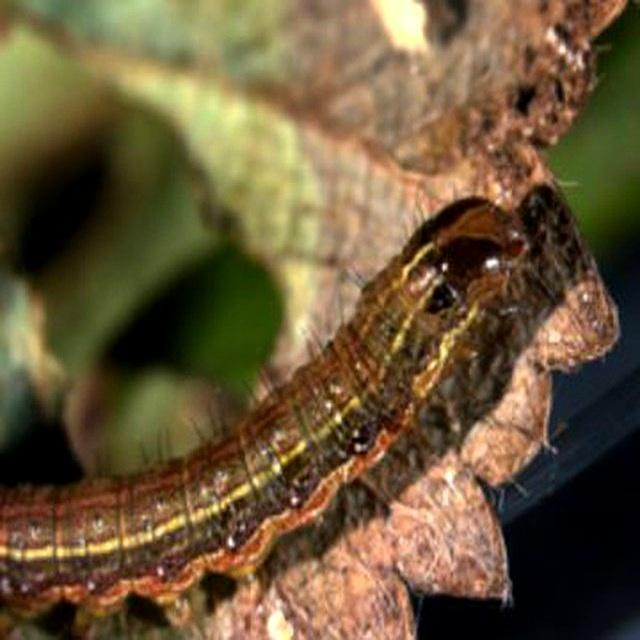Plaga: (1, 193, 543, 640)
